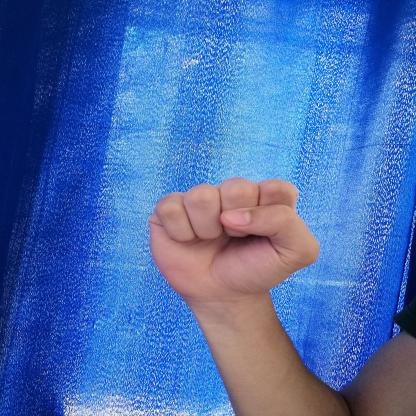SAD: (128, 164, 337, 313)
